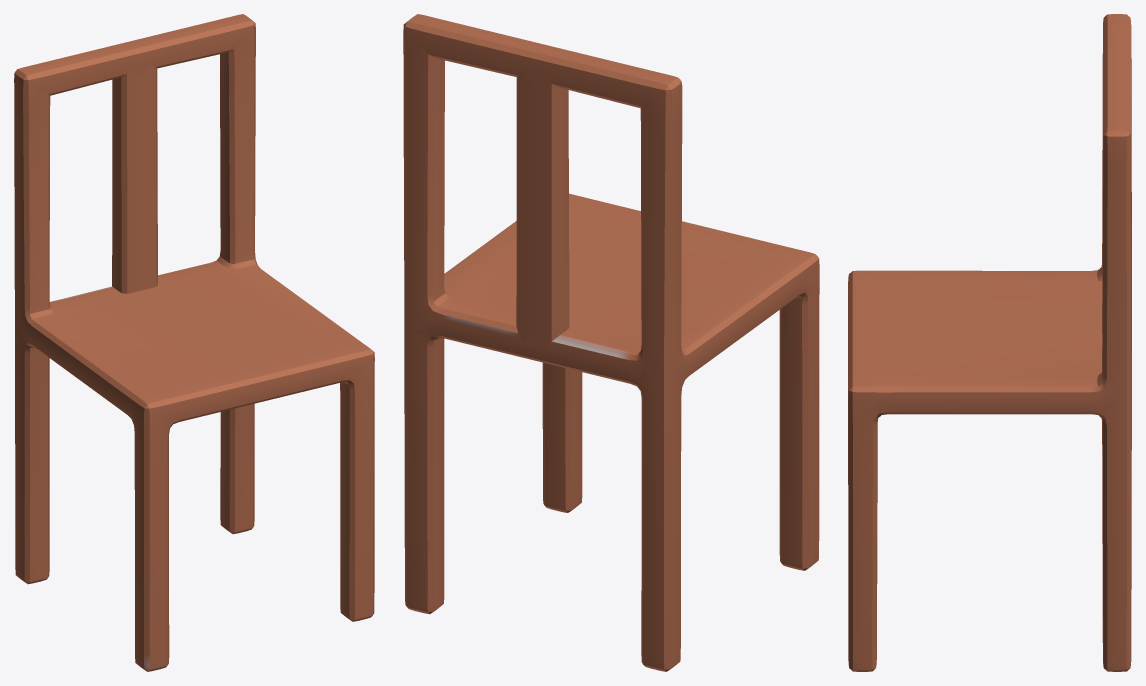
The model's file is chair.glb.
3 renders of one model, left to right at view 1: azimuth 30°, elevation 25°; view 2: azimuth 150°, elevation 25°; view 3: azimuth 270°, elevation 25°, orthographic. The views are drawn at different scales.
Parts seen in each view (by area): view 1: Kitcher.Chair; view 2: Kitcher.Chair; view 3: Kitcher.Chair.
Part boxes in pixels (box(x1,y1,x2,y2)): Kitcher.Chair: box(14, 14, 374, 671); Kitcher.Chair: box(403, 14, 819, 671); Kitcher.Chair: box(848, 14, 1131, 671).
Size of the model in its own units: 0.3295 by 0.6885 by 0.3268.
1 material, 1 textured.
